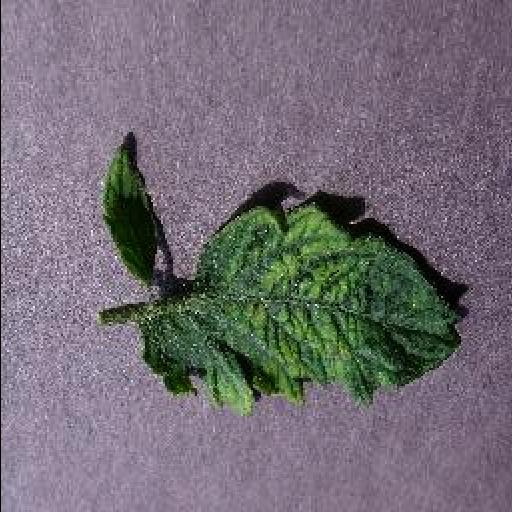Mosaic Virus: (138, 203, 460, 417), (100, 138, 160, 276)
